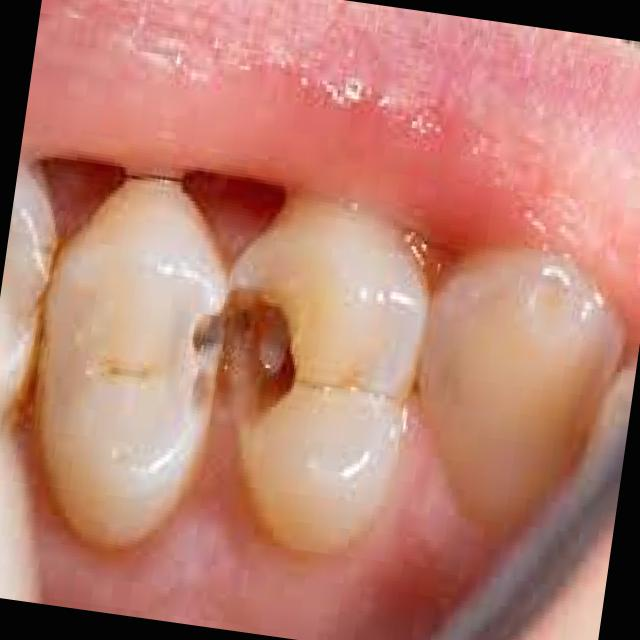caries: (165, 261, 320, 450)
